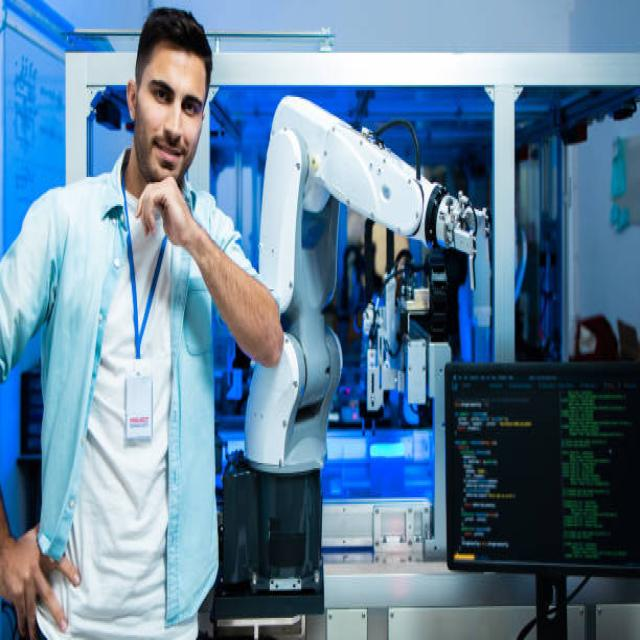Robotic-arm: (246, 80, 488, 478)
